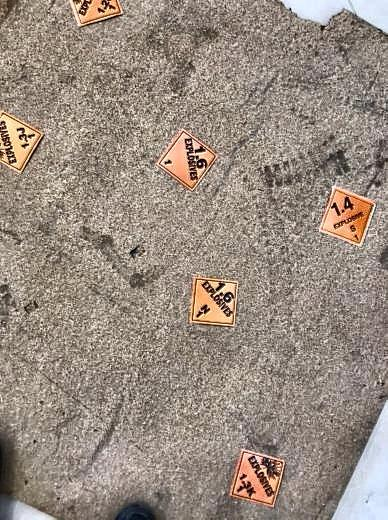explosive: (154, 130, 217, 191), (319, 186, 378, 247), (231, 450, 286, 509), (1, 109, 46, 174), (191, 276, 239, 327), (70, 1, 123, 29)
